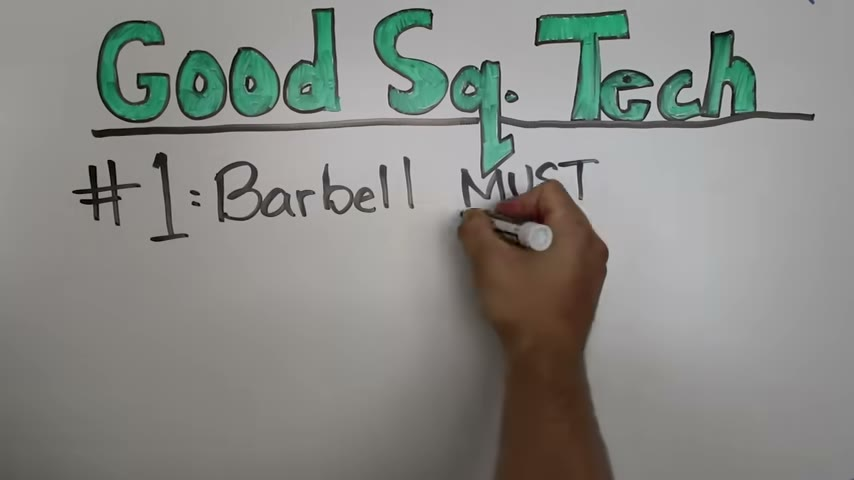barbell_plate_side: (92, 10, 161, 155)
